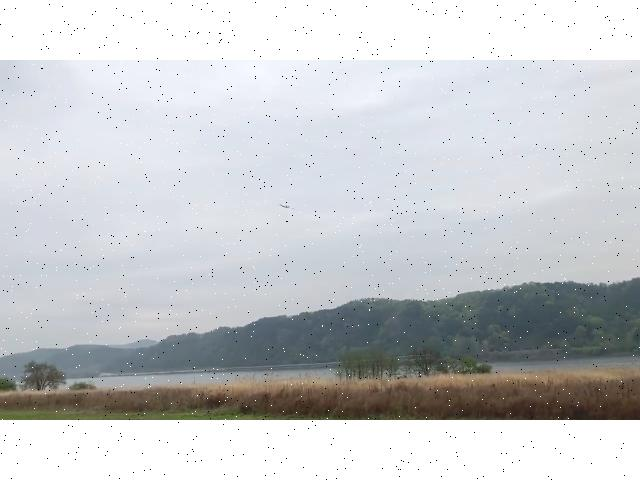Anti-Drone: (280, 204, 294, 210)
